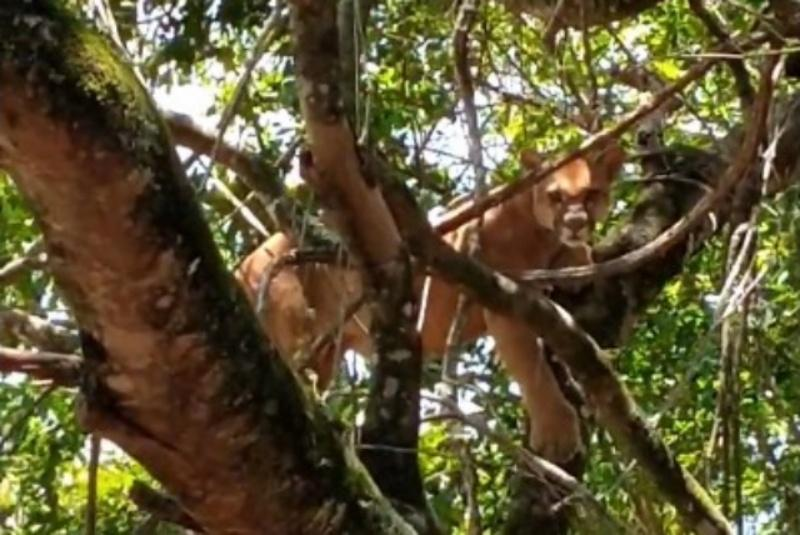OncaParda: (236, 147, 638, 461)
